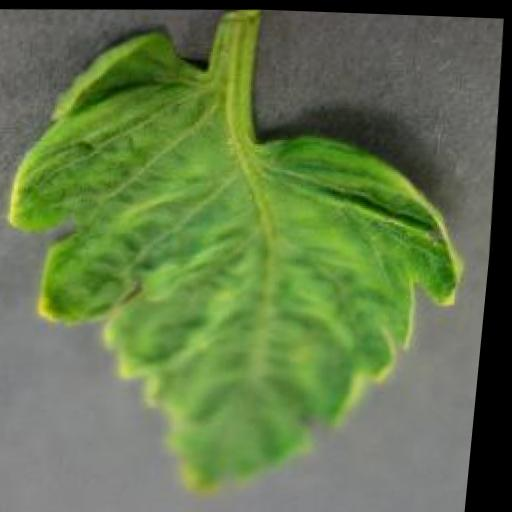Yellow Leaf Curl Virus: (0, 11, 494, 505)
